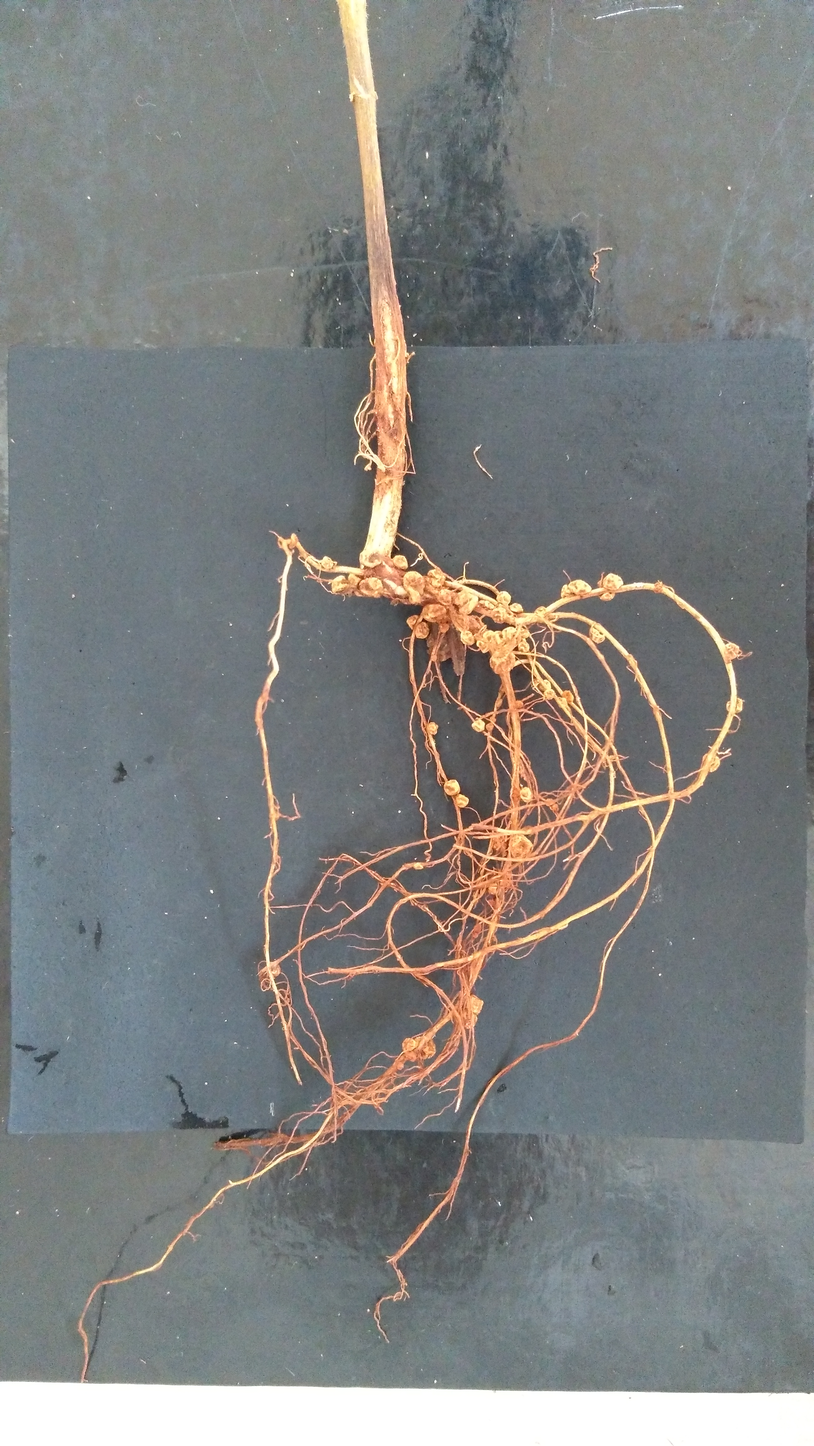nodule: (492, 831, 533, 860), (402, 570, 427, 606), (402, 1037, 436, 1062), (454, 612, 489, 636), (426, 631, 453, 662), (461, 995, 484, 1029), (597, 573, 623, 602), (489, 647, 516, 674), (454, 588, 479, 615), (560, 579, 592, 598), (406, 615, 430, 638), (421, 602, 447, 623), (359, 577, 384, 598), (488, 873, 510, 896), (359, 548, 386, 566), (348, 572, 365, 598), (436, 587, 458, 607), (722, 641, 740, 665), (426, 568, 446, 588), (701, 752, 720, 773), (436, 611, 454, 633), (502, 626, 531, 639), (262, 962, 281, 981), (491, 605, 510, 624), (589, 621, 605, 643), (482, 628, 505, 643), (331, 575, 348, 594), (726, 696, 745, 713), (392, 553, 409, 570), (444, 779, 460, 796), (459, 629, 475, 646), (320, 555, 336, 570), (478, 597, 496, 610), (496, 590, 512, 604), (519, 786, 532, 803), (455, 793, 469, 808), (545, 798, 559, 813), (471, 718, 485, 732), (477, 638, 491, 652), (534, 605, 550, 617), (472, 922, 483, 939), (562, 689, 575, 703), (288, 532, 298, 549), (556, 696, 569, 709), (538, 679, 552, 691), (517, 640, 530, 652), (428, 721, 439, 735), (508, 602, 523, 612), (395, 1055, 404, 1071), (543, 688, 555, 700), (654, 581, 663, 594), (486, 898, 498, 907), (513, 700, 525, 708), (413, 862, 423, 870), (486, 722, 494, 731), (495, 698, 503, 707), (431, 654, 438, 662), (489, 716, 496, 723)
